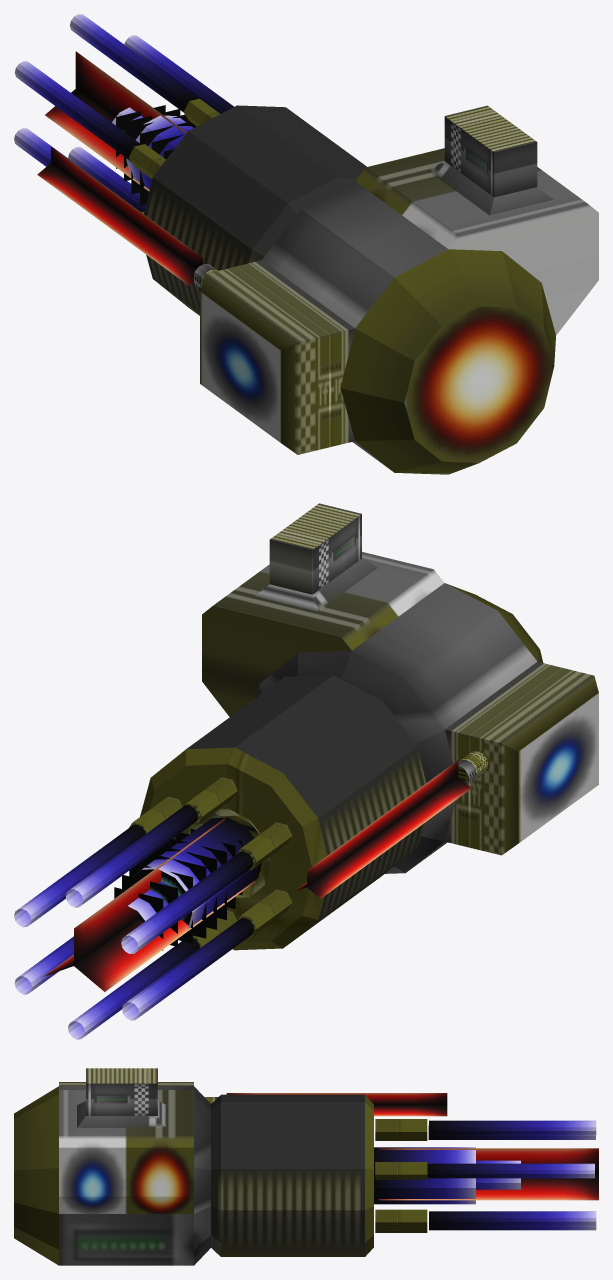
3 views of the same model, one above another, from view 1: azimuth 30°, elevation 25°; view 2: azimuth 150°, elevation 25°; view 3: azimuth 270°, elevation 25° (orthographic). The views are drawn at different scales.
Parts seen in each view (by area): view 1: Front04, Heck02, Heck01, Sideup01, Side01, B_laser, Side02, ConA01, Xlight02, Slight01, Slight02, Xlight03 (+9 smaller); view 2: Front04, B_laser, Sideup01, Side01, Front03, Side02, ConA01, Light04, Xlight02, Slight04, Slight02, Slight01 (+15 smaller); view 3: Front04, Sideup01, B_laser, Heck02, Light04, ConA01, Slight01, Slight, Xlight04, Slight03, Xlight05, Front03 (+10 smaller).
Boxes of the visible parts, <box> form: Front04: <box>144,105,366,315</box>; Heck02: <box>340,249,555,474</box>; Heck01: <box>404,306,554,462</box>; Sideup01: <box>355,148,598,335</box>; Side01: <box>200,260,354,454</box>; B_laser: <box>262,181,447,470</box>; Side02: <box>200,292,280,442</box>; ConA01: <box>444,105,537,197</box>; Xlight02: <box>37,163,196,285</box>; Slight01: <box>70,14,197,112</box>; Slight02: <box>14,61,141,160</box>; Xlight03: <box>51,146,202,269</box>; Front04: <box>186,675,425,945</box>; B_laser: <box>255,583,537,873</box>; Sideup01: <box>202,552,444,716</box>; Side01: <box>445,661,598,855</box>; Front03: <box>140,747,327,950</box>; Side02: <box>518,693,598,842</box>; ConA01: <box>269,503,361,594</box>; Light04: <box>135,817,261,928</box>; Xlight02: <box>307,776,471,898</box>; Slight04: <box>122,918,254,1020</box>; Slight02: <box>121,851,253,953</box>; Slight01: <box>66,805,197,907</box>; Front04: <box>211,1094,364,1256</box>; Sideup01: <box>59,1090,193,1213</box>; B_laser: <box>59,1086,210,1265</box>; Heck02: <box>14,1086,58,1265</box>; Light04: <box>374,1147,475,1204</box>; ConA01: <box>86,1068,157,1115</box>; Slight01: <box>429,1120,596,1135</box>; Slight: <box>427,1163,594,1178</box>; Xlight04: <box>378,1175,598,1200</box>; Slight03: <box>429,1211,596,1225</box>; Xlight05: <box>378,1148,598,1175</box>; Front03: <box>365,1095,373,1256</box>.
Size of the model in its own units: 176 by 158 by 394.
4 materials, 4 textured.
